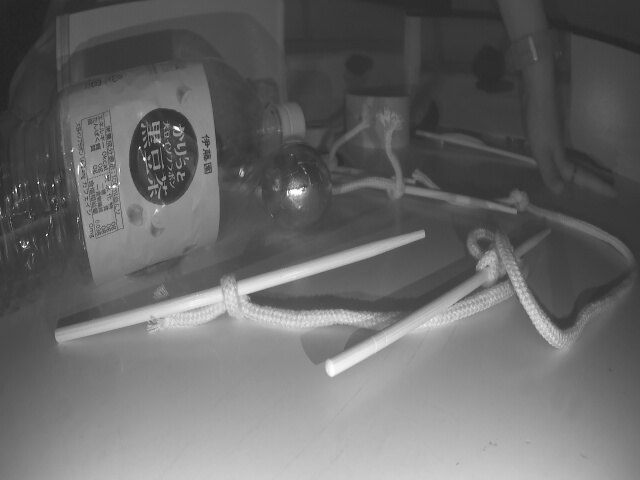Live: (268, 146, 330, 220)
